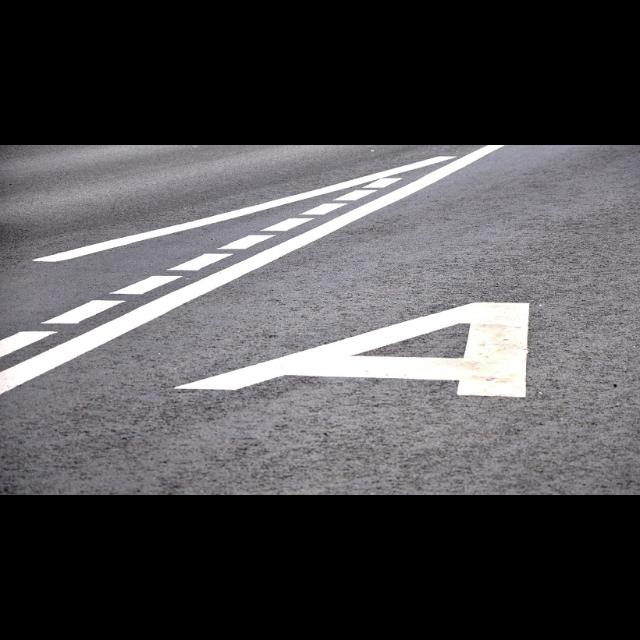road: (0, 145, 639, 494)
